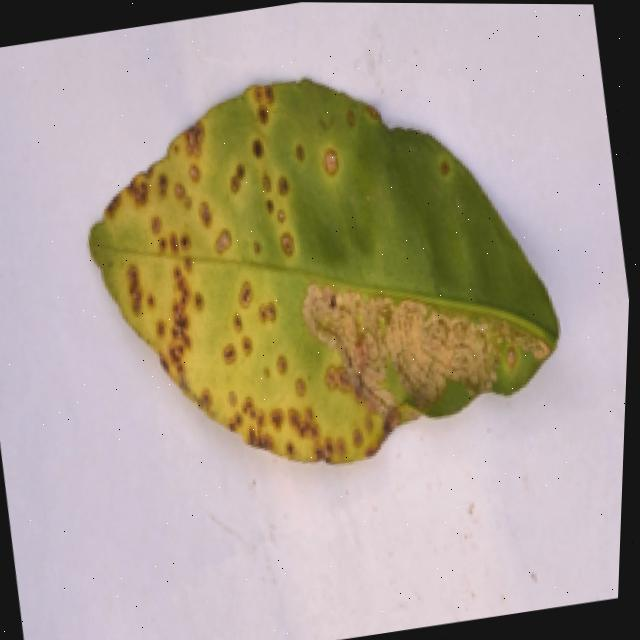canker: (90, 81, 558, 460), (90, 81, 398, 456)
